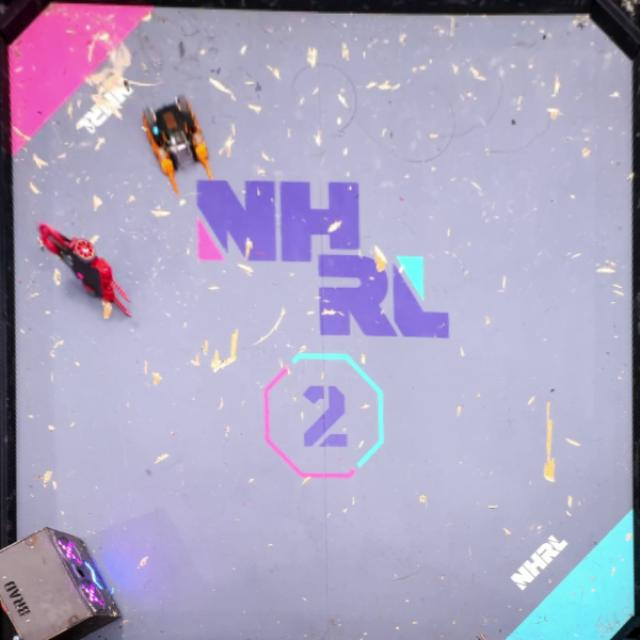housebot: (0, 526, 123, 640)
robot: (37, 221, 130, 316), (143, 94, 215, 192)
